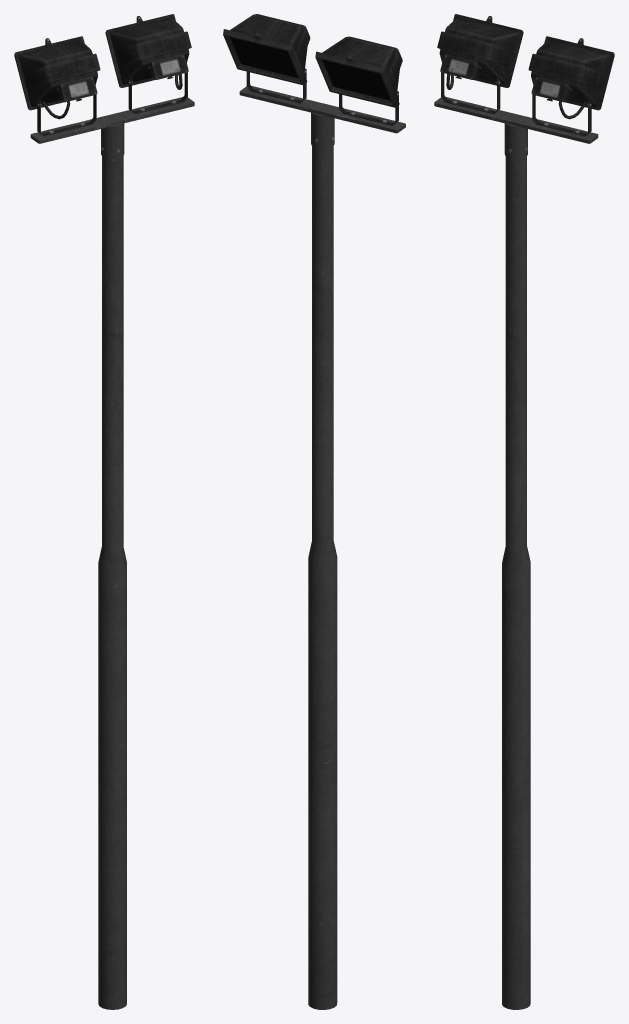
Rendered from FloodLight_T.fbx.
3 renders of one model, left to right at view 1: azimuth 30°, elevation 25°; view 2: azimuth 150°, elevation 25°; view 3: azimuth 330°, elevation 25°, orthographic.
Visible parts, largest first — view 1: SM_FloodLight_5_LOD0; view 2: SM_FloodLight_5_LOD0; view 3: SM_FloodLight_5_LOD0.
Boxes of the visible parts, x1,y1,x2,y2 form: SM_FloodLight_5_LOD0: [14, 14, 194, 1009]; SM_FloodLight_5_LOD0: [223, 14, 405, 1009]; SM_FloodLight_5_LOD0: [434, 14, 614, 1009].
Size of what is drawn, in the model's own units: 143 by 824 by 53.83.
